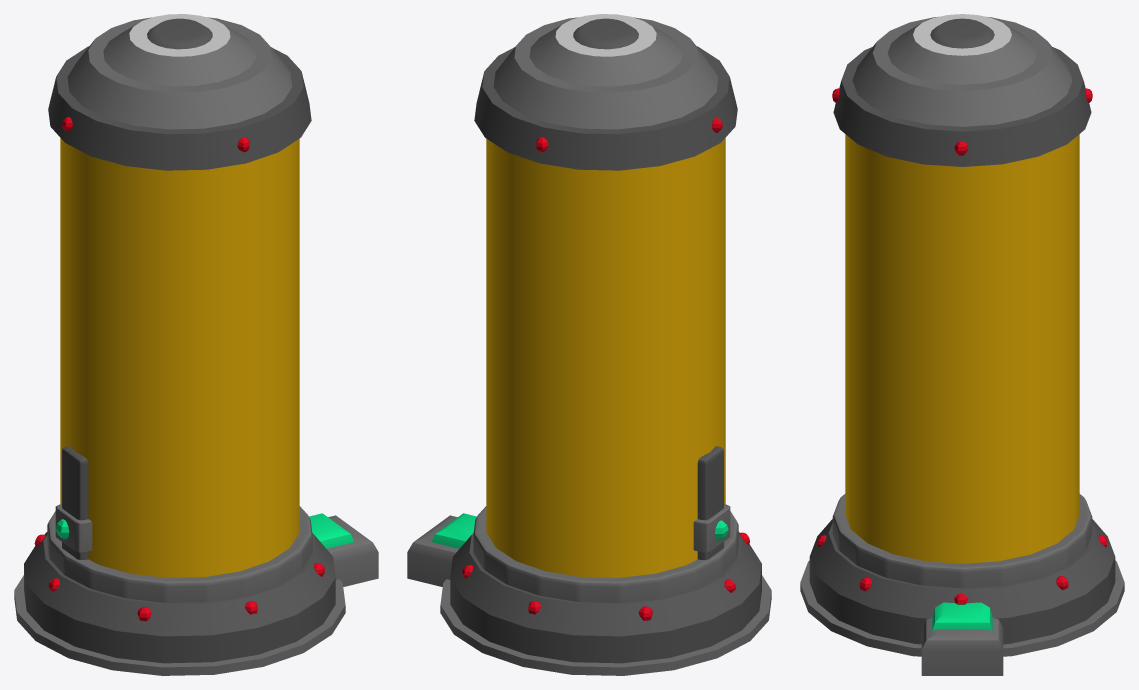
File: lamp.fbx
3 views of the same model, side by side, from view 1: azimuth 30°, elevation 25°; view 2: azimuth 150°, elevation 25°; view 3: azimuth 270°, elevation 25° (orthographic). The views are drawn at different scales.
Parts seen in each view (by area): view 1: pCylinder4, pCylinder2, pCylinder3, pCylinder1, pCube4, pCube2, pCube3, pCube1; view 2: pCylinder4, pCylinder2, pCylinder3, pCylinder1, pCube4, pCube2, pCube3, pCube1; view 3: pCylinder4, pCylinder2, pCylinder3, pCube4, pCylinder1, pCube1.
Part boxes in pixels (x1,y1,x2,y2): pCylinder4: [48, 14, 311, 577]; pCylinder2: [24, 532, 335, 663]; pCylinder3: [47, 506, 312, 602]; pCylinder1: [14, 575, 345, 675]; pCube4: [327, 515, 378, 586]; pCube2: [62, 446, 88, 559]; pCube3: [55, 504, 92, 552]; pCube1: [309, 513, 354, 548]; pCylinder4: [474, 14, 737, 577]; pCylinder2: [450, 532, 761, 663]; pCylinder3: [473, 506, 738, 602]; pCylinder1: [440, 575, 771, 675]; pCube4: [407, 515, 458, 586]; pCube2: [697, 446, 723, 559]; pCube3: [693, 504, 730, 552]; pCube1: [431, 513, 476, 548]; pCylinder4: [833, 14, 1091, 563]; pCylinder2: [809, 519, 1115, 644]; pCylinder3: [832, 494, 1092, 588]; pCube4: [921, 618, 1003, 675]; pCylinder1: [800, 560, 1124, 656]; pCube1: [932, 602, 992, 630].
Bounding box in the file's own units: 2.23 × 3.83 × 2.
